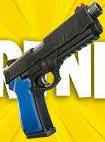gun: (1, 1, 105, 142)
